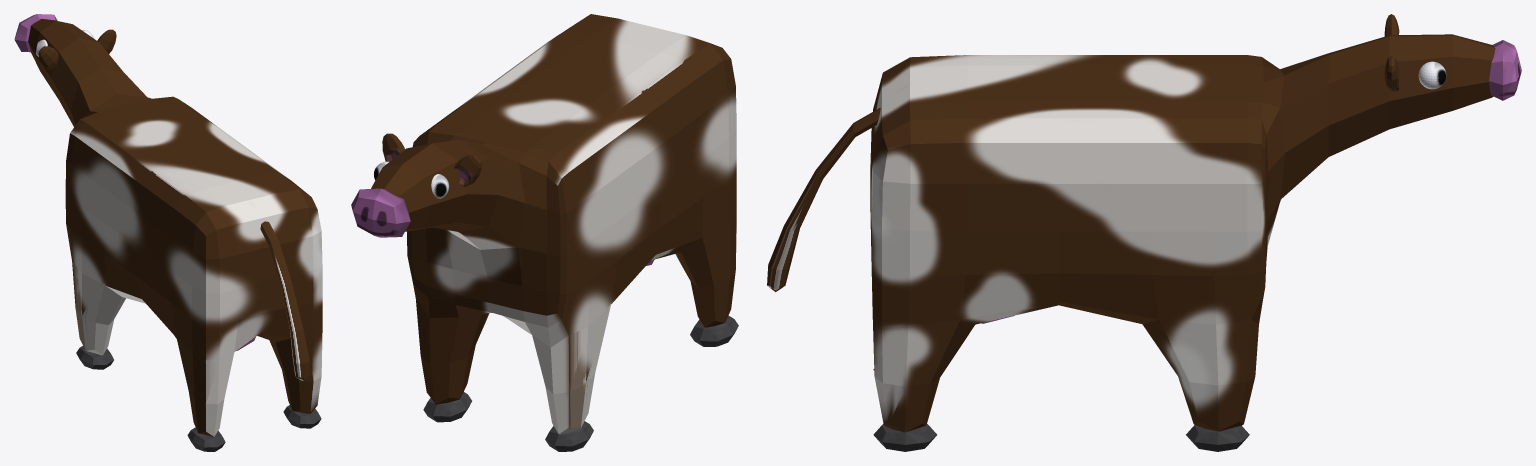
Rendered from cow.glb.
3 views of the same model, side by side, from view 1: azimuth 30°, elevation 25°; view 2: azimuth 150°, elevation 25°; view 3: azimuth 270°, elevation 25° (orthographic). The views are drawn at different scales.
Parts seen in each view (by area): view 1: Cube.005; view 2: Cube.005; view 3: Cube.005.
Part boxes in pixels (bbox=[...]): Cube.005: bbox=[14, 14, 322, 451]; Cube.005: bbox=[351, 14, 738, 451]; Cube.005: bbox=[767, 14, 1521, 451].
Size of the model in its own units: 2.02 by 4.1 by 7.41.
Materials: 7 (7 with a texture image).
